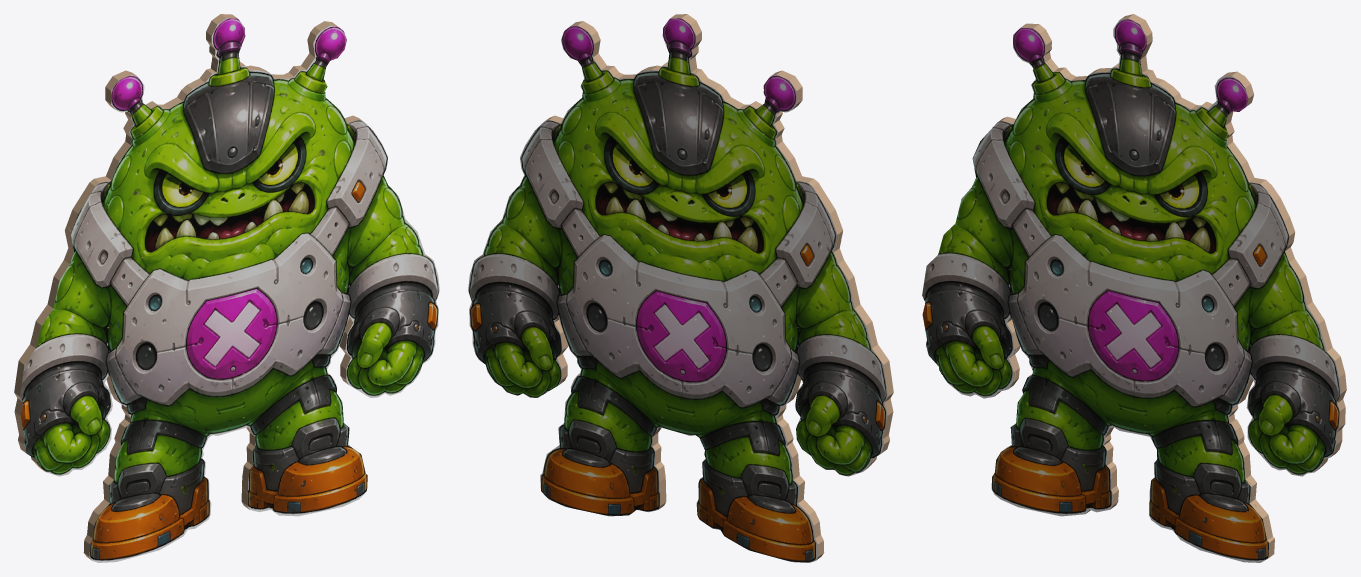
File: SM_PracticeTarget_Alien02.fbx
3 views of the same model, side by side, from view 1: azimuth 30°, elevation 25°; view 2: azimuth 150°, elevation 25°; view 3: azimuth 330°, elevation 25° (orthographic).
Visible parts, largest first — view 1: TargetPiece_034, TargetPiece_041, TargetPiece_021, TargetPiece_016, TargetPiece_036, TargetPiece_040, TargetPiece_023, TargetPiece_028, TargetPiece_029, TargetPiece_010, TargetPiece_031, TargetPiece_020 (+33 smaller); view 2: TargetPiece_027, TargetPiece_040, TargetPiece_034, TargetPiece_029, TargetPiece_036, TargetPiece_035, TargetPiece_037, TargetPiece_024, TargetPiece_016, TargetPiece_041, TargetPiece_028, TargetPiece_015 (+33 smaller); view 3: TargetPiece_010, TargetPiece_008, TargetPiece_023, TargetPiece_041, TargetPiece_037, TargetPiece_028, TargetPiece_013, TargetPiece_029, TargetPiece_036, TargetPiece_042, TargetPiece_015, TargetPiece_021 (+33 smaller).
Boxes of the visible parts, x1,y1,x2,y2 form: TargetPiece_034: (66,202,141,283); TargetPiece_041: (174,115,243,196); TargetPiece_021: (140,310,209,389); TargetPiece_016: (242,345,311,426); TargetPiece_036: (208,169,277,250); TargetPiece_040: (106,132,175,214); TargetPiece_023: (276,276,345,356); TargetPiece_028: (106,255,175,336); TargetPiece_029: (174,238,243,320); TargetPiece_010: (276,398,349,480); TargetPiece_031: (310,207,379,286); TargetPiece_020: (72,325,141,407); TargetPiece_027: (796,273,875,353); TargetPiece_040: (728,134,805,213); TargetPiece_034: (762,203,841,285); TargetPiece_029: (661,240,730,322); TargetPiece_036: (627,170,696,250); TargetPiece_035: (694,187,764,268); TargetPiece_037: (559,154,628,233); TargetPiece_024: (491,260,561,342); TargetPiece_016: (593,346,662,427); TargetPiece_041: (661,117,730,198); TargetPiece_028: (728,257,798,338); TargetPiece_015: (661,363,730,443); TargetPiece_010: (1178,441,1256,520); TargetPiece_008: (1042,408,1116,487); TargetPiece_023: (1177,318,1253,399); TargetPiece_041: (1076,109,1145,190); TargetPiece_037: (1178,196,1247,276); TargetPiece_028: (1008,215,1077,297); TargetPiece_013: (940,321,1018,398); TargetPiece_029: (1076,232,1145,312); TargetPiece_036: (1110,179,1179,260); TargetPiece_042: (1144,126,1213,206); TargetPiece_015: (1076,355,1145,432); TargetPiece_021: (1042,285,1111,366).
Bounding box in the file's own units: 1.45 × 1.7 × 0.035.
